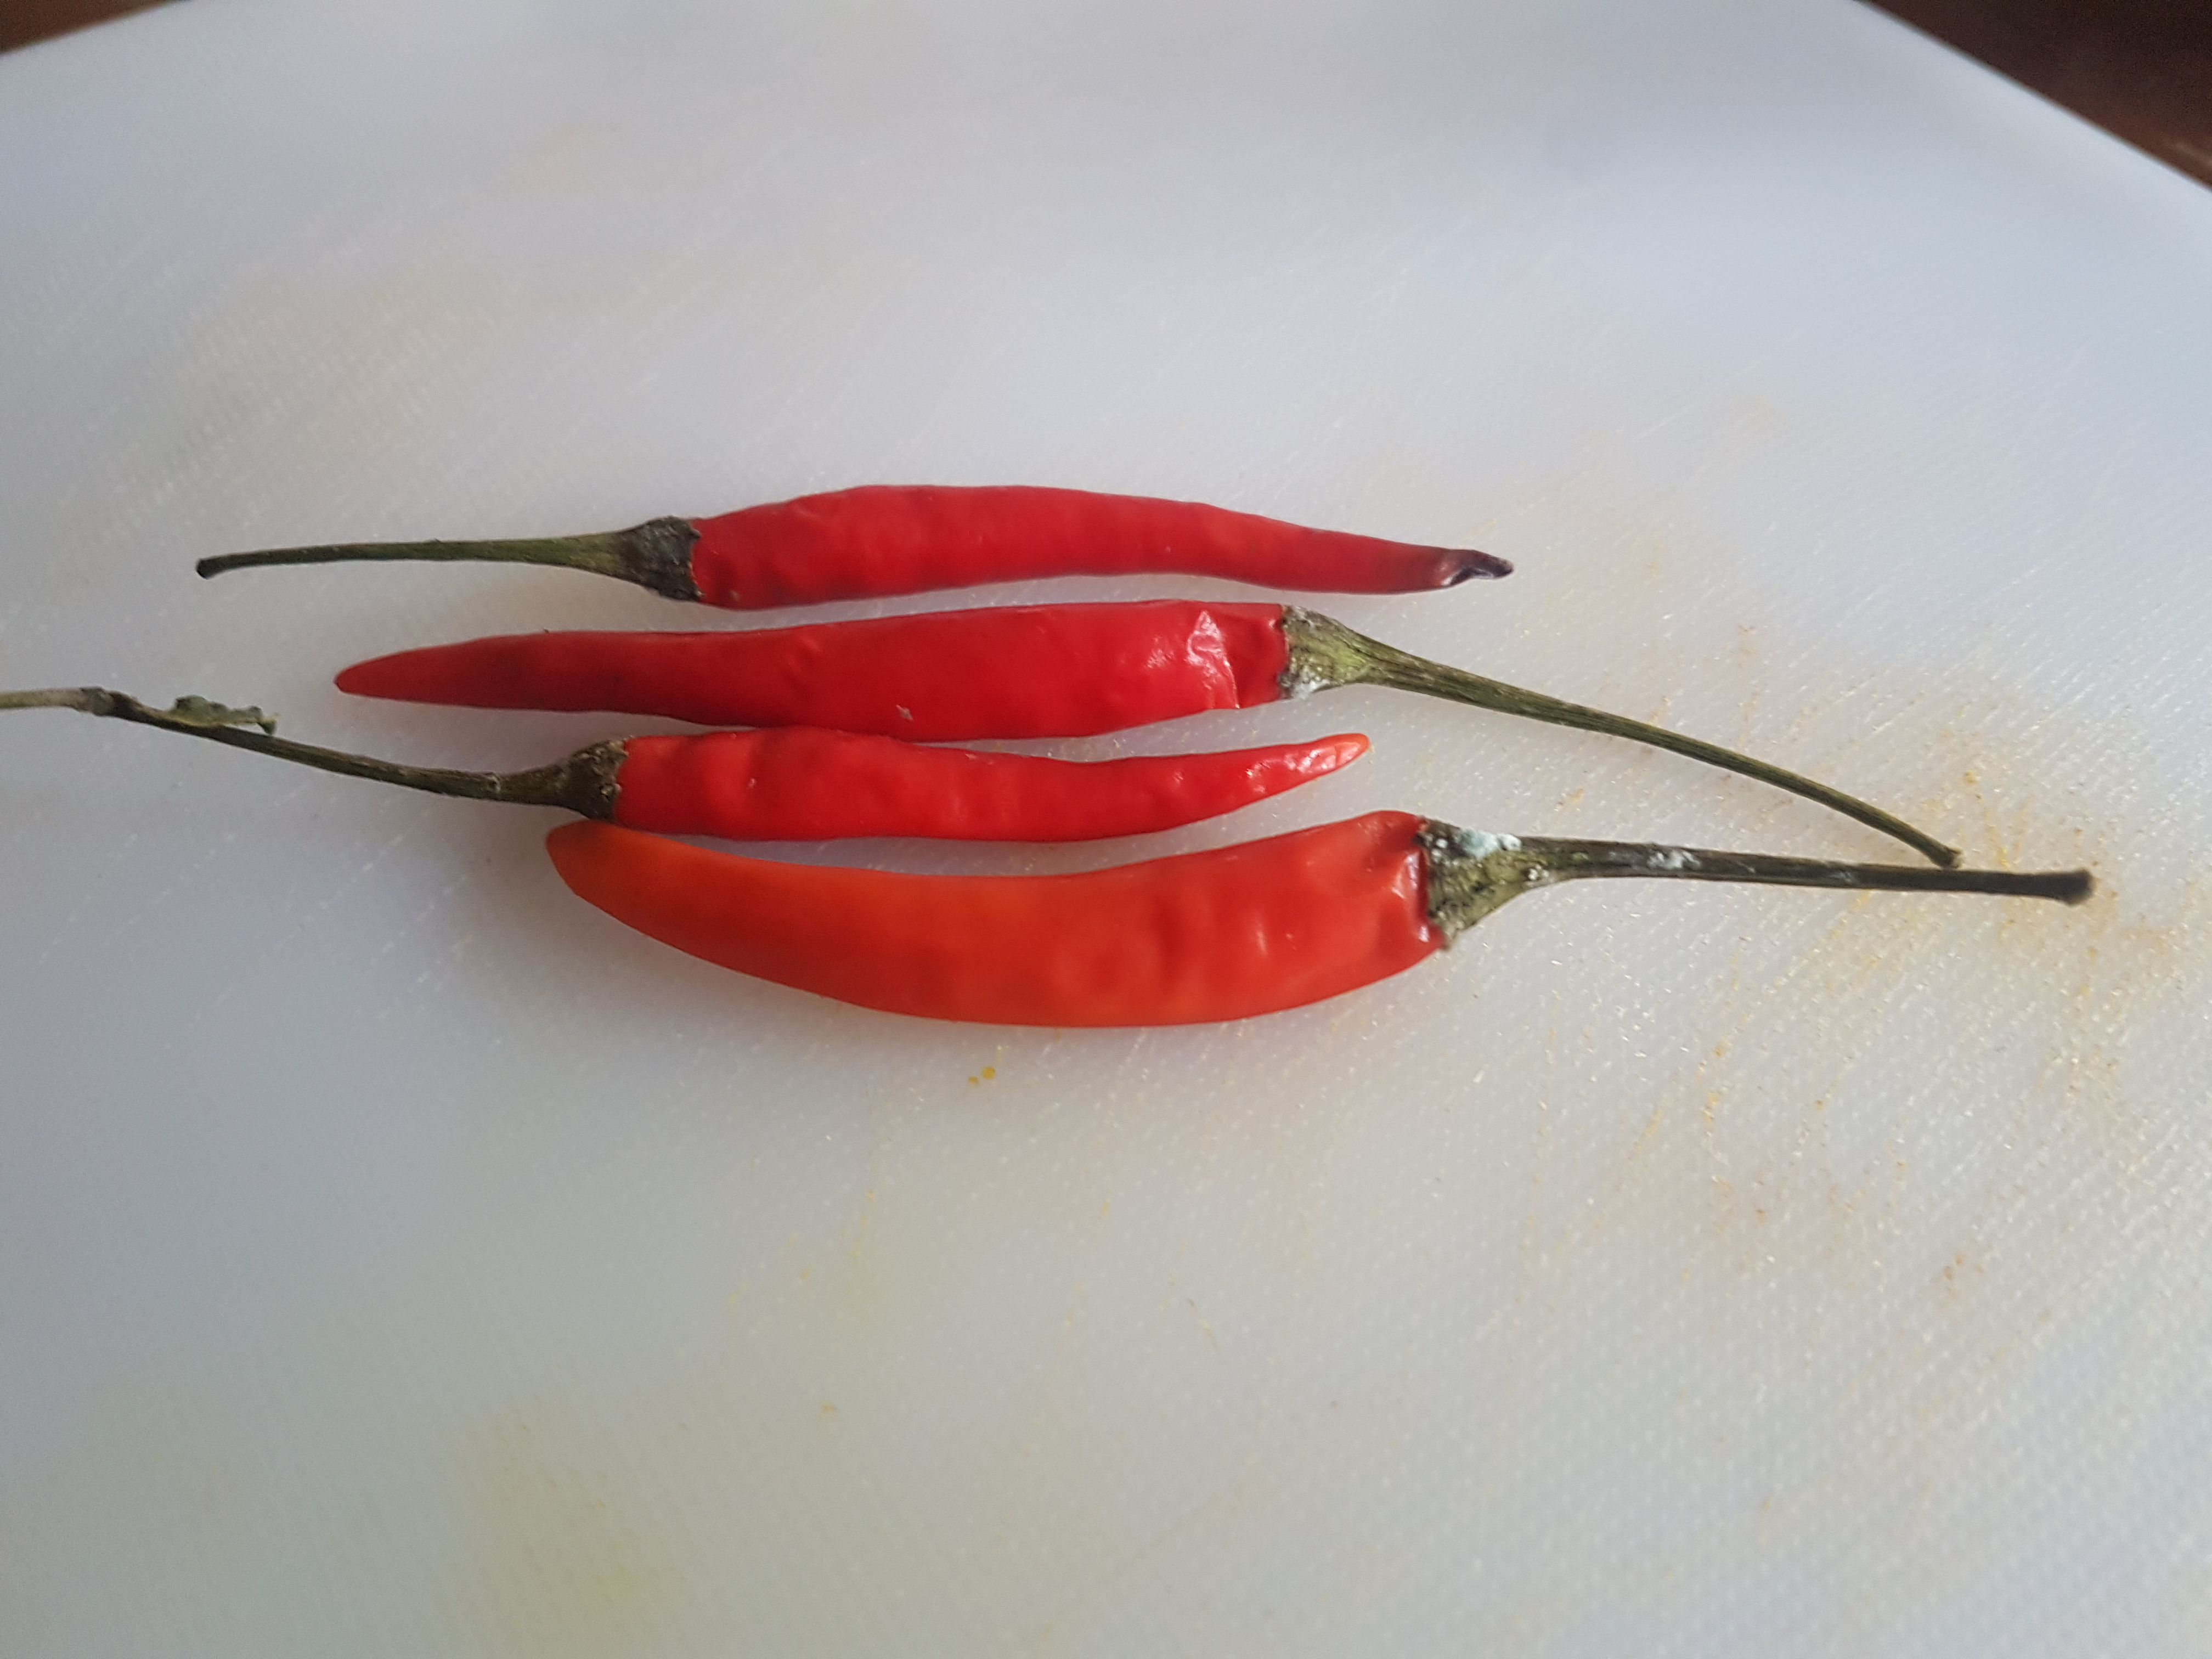Cayenne pepper: (5, 444, 2118, 1028)
